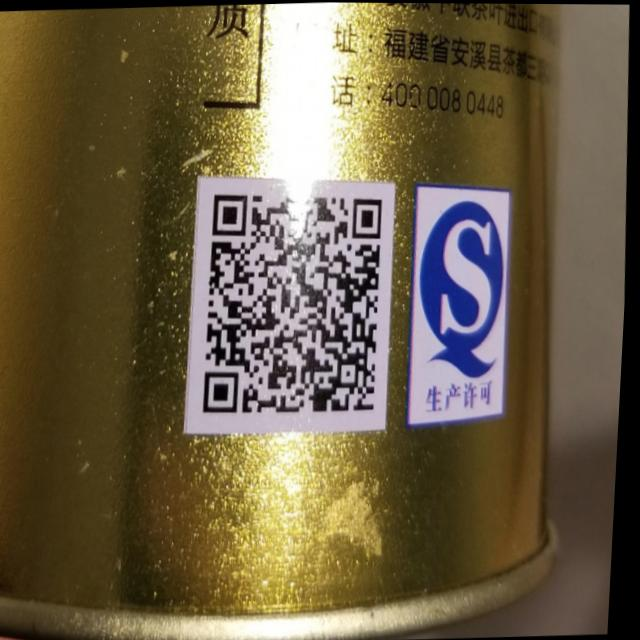QR_CODE: (188, 168, 400, 434)
